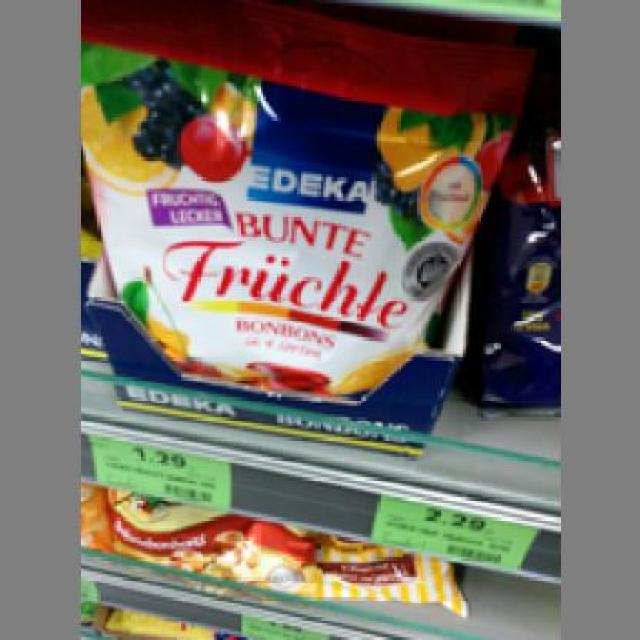Candy: (77, 0, 530, 397)
